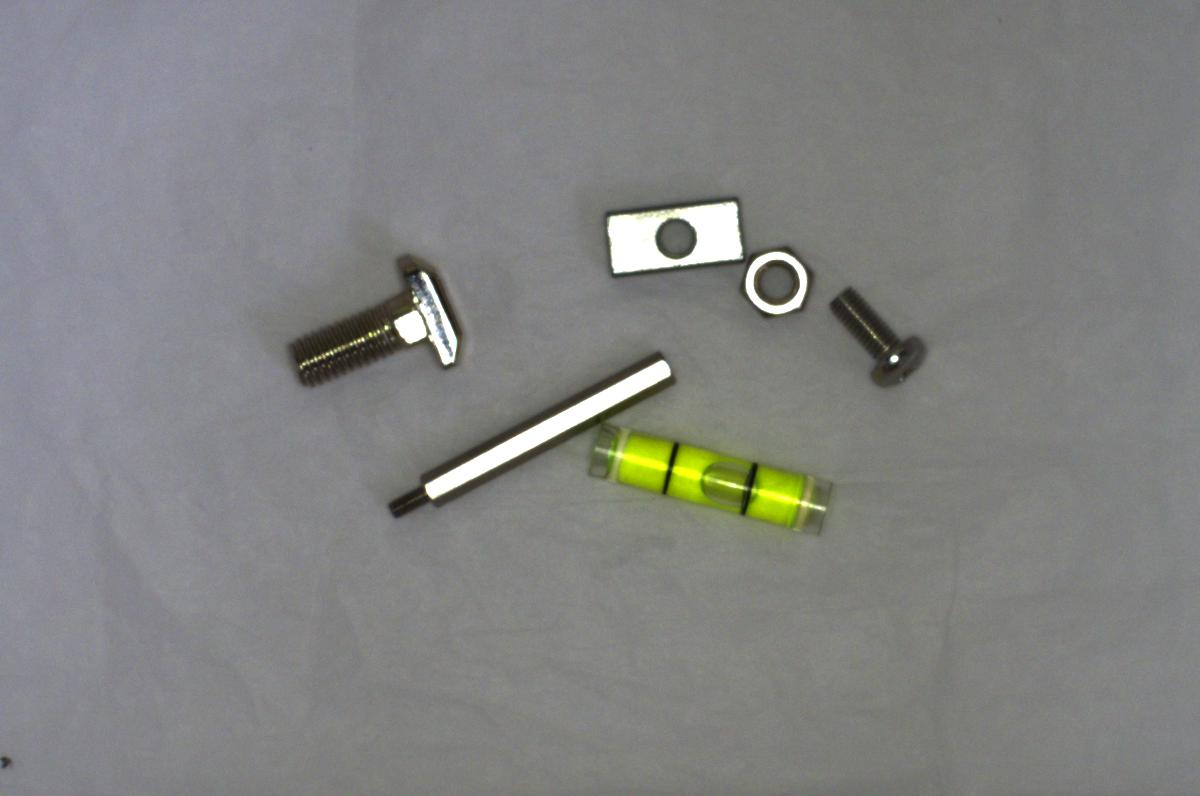Hexagon nut: (735, 236, 824, 327)
Hexagonal steel column: (366, 353, 677, 528)
Horizontal bubble: (585, 423, 842, 539)
Rectangular nut: (591, 189, 750, 278)
Round head screw: (825, 283, 935, 387)
T-shaped screw: (267, 252, 467, 383)
